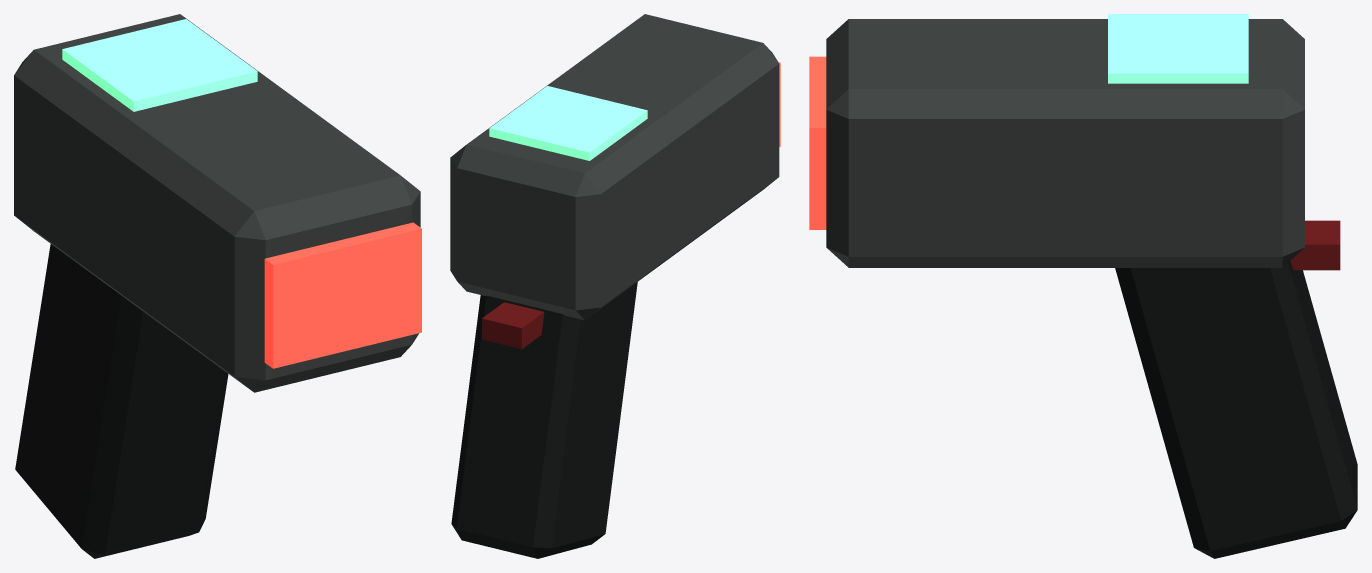
Rendered from may_quet.glb.
The picture shows the model from 3 angles, left to right: view 1: azimuth 30°, elevation 25°; view 2: azimuth 150°, elevation 25°; view 3: azimuth 270°, elevation 25°; orthographic projection. The views are drawn at different scales.
Parts seen in each view (by area): view 1: may_quet; view 2: may_quet; view 3: may_quet.
Part boxes in pixels (x1,y1,x2,y2): may_quet: [14, 14, 421, 558]; may_quet: [450, 14, 780, 558]; may_quet: [809, 14, 1357, 558].
Bounding box in the file's own units: 0.075 × 0.1929 × 0.1947.
